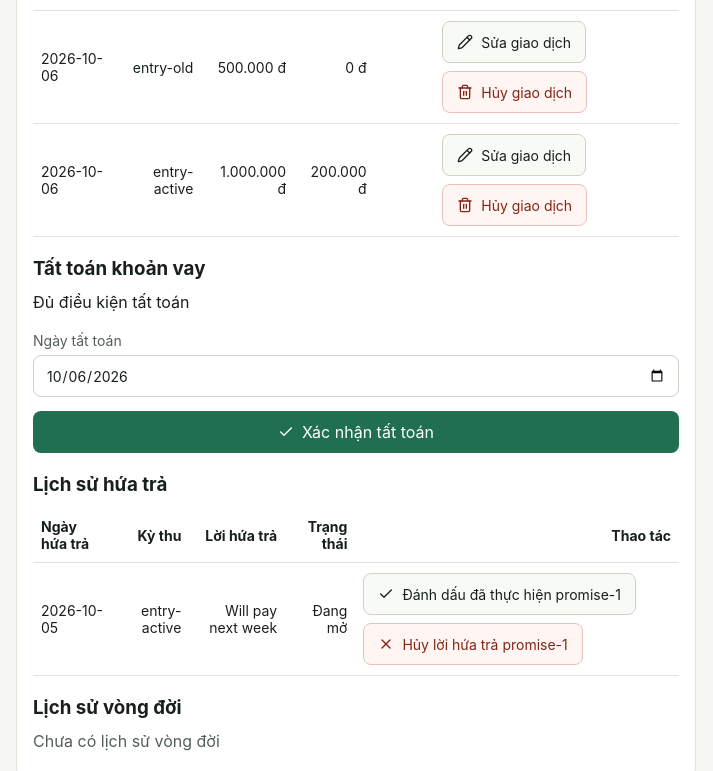
Test: LoanDetail › rejects a blank settlement date with a Vietnamese validation error
The image size is (713, 771).
(page scrolled)
Clear the date field labelled "Ngày tất toán" at (356, 376), box [33,355,679,397]
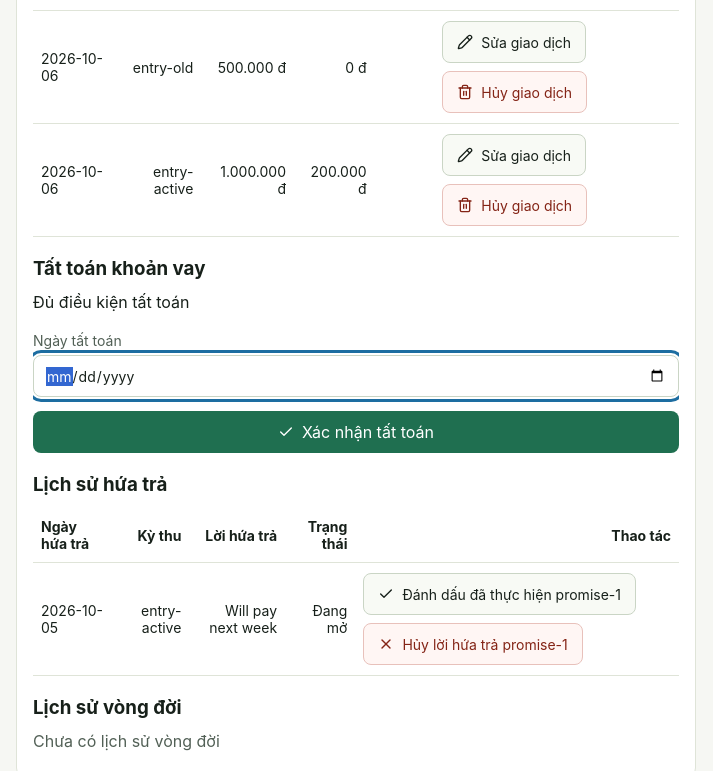
Click the button "Xác nhận tất toán" at (356, 432), box [33,411,679,453]
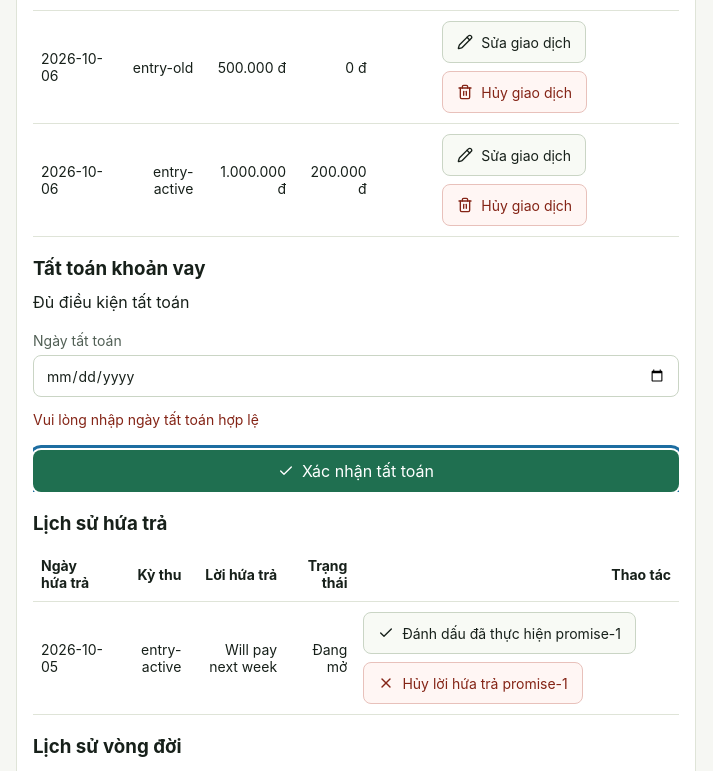
Now the message reads "Vui lòng nhập ngày tất toán hợp lệ", box [33,411,259,428]
